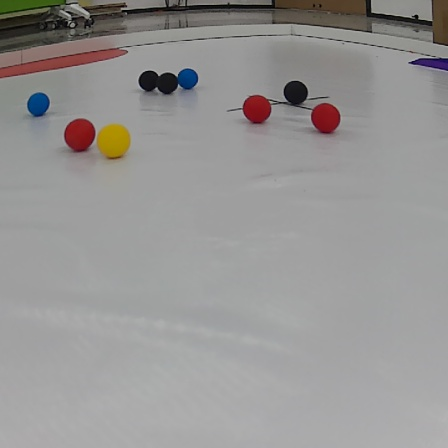black: (286, 82, 312, 105), (138, 71, 160, 95), (160, 71, 175, 95)
blue: (25, 92, 53, 116), (179, 67, 203, 92)
red: (310, 101, 343, 136), (63, 118, 95, 152), (242, 90, 273, 124)
red_base: (1, 51, 138, 72)
yellow: (97, 122, 132, 160)
